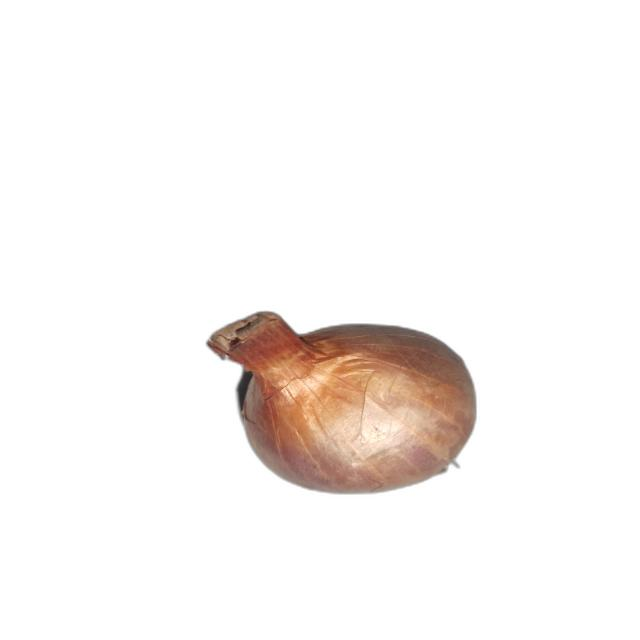onion: (207, 310, 478, 496)
